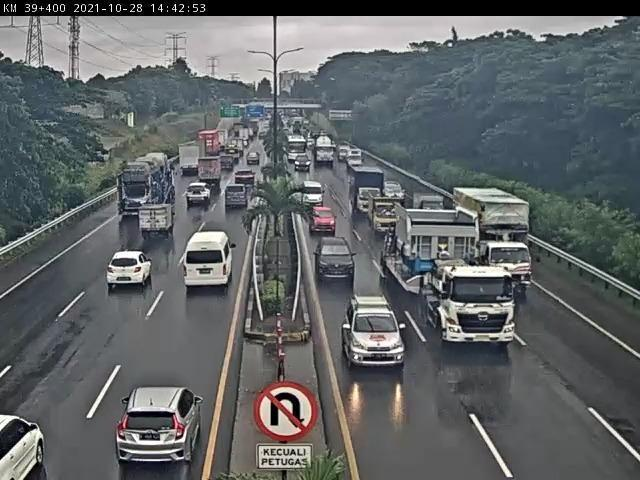car: (117, 390, 202, 464), (342, 295, 410, 369), (183, 234, 237, 285), (317, 237, 358, 285), (105, 248, 154, 288), (410, 194, 448, 217), (308, 206, 339, 233), (301, 180, 327, 208), (186, 186, 214, 209), (383, 177, 404, 203), (226, 186, 249, 206)
truck: (381, 207, 517, 344), (453, 186, 534, 293), (118, 151, 178, 216), (348, 165, 390, 213), (368, 197, 408, 233), (138, 206, 176, 238)
